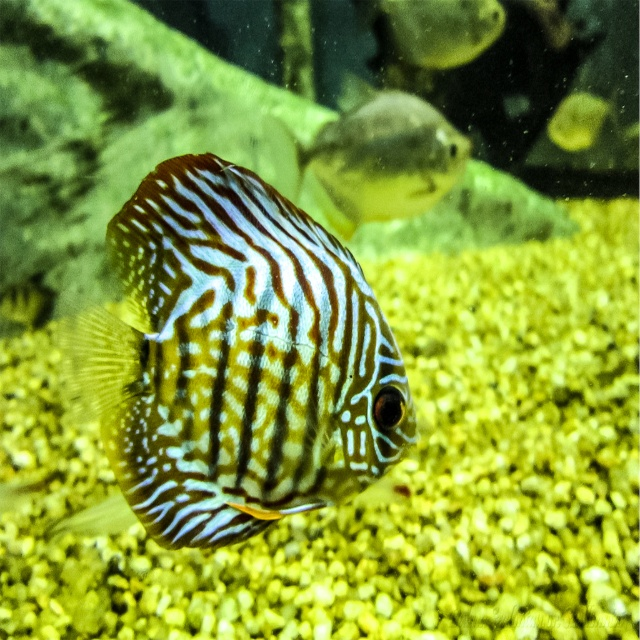Fish: (78, 149, 421, 589), (258, 71, 471, 245), (367, 0, 506, 91)
